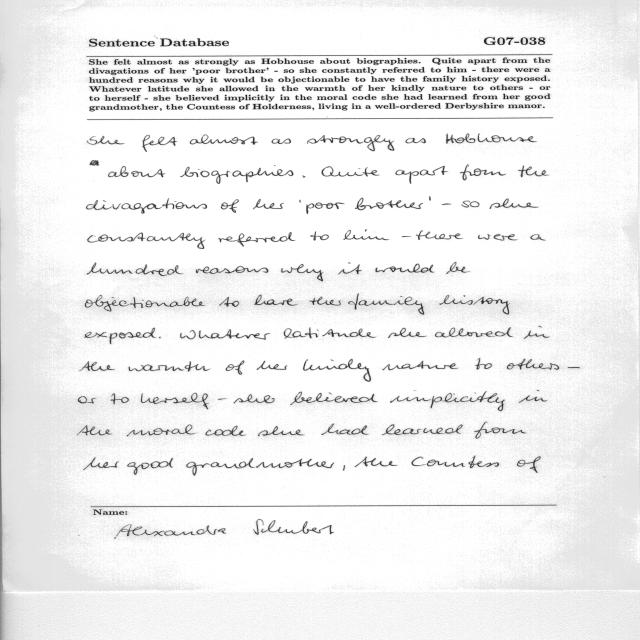word: (187, 458, 335, 476), (390, 390, 505, 411), (180, 165, 293, 184), (88, 232, 205, 249), (87, 198, 207, 214), (85, 295, 205, 311), (348, 293, 424, 315), (303, 359, 371, 382), (439, 295, 510, 315), (307, 135, 394, 151), (87, 263, 183, 276), (218, 232, 295, 247), (290, 392, 378, 405), (85, 328, 156, 344), (284, 327, 375, 339), (141, 393, 209, 409), (412, 456, 499, 468), (180, 329, 271, 340), (396, 166, 448, 184), (446, 134, 537, 144), (382, 425, 463, 436), (474, 422, 526, 439), (129, 362, 211, 372), (355, 198, 423, 210), (127, 425, 195, 437), (127, 458, 173, 475), (435, 328, 513, 338), (190, 134, 258, 145), (460, 165, 506, 181), (281, 264, 323, 281), (383, 361, 458, 370), (108, 166, 165, 177), (142, 135, 177, 152), (376, 263, 435, 273), (322, 167, 380, 177), (196, 266, 268, 274), (321, 423, 369, 435), (507, 359, 559, 370), (490, 199, 539, 209), (255, 295, 298, 306), (416, 230, 463, 240), (258, 426, 305, 436), (306, 202, 345, 214), (344, 230, 390, 240), (84, 457, 119, 470), (355, 457, 397, 467), (517, 456, 541, 473), (206, 426, 246, 436), (388, 328, 427, 338), (77, 425, 112, 436), (234, 394, 275, 403), (519, 390, 547, 403), (80, 361, 115, 371), (518, 166, 549, 177), (88, 136, 125, 145), (524, 326, 549, 339), (253, 199, 284, 209), (338, 263, 362, 275), (446, 262, 470, 274), (309, 297, 341, 306), (226, 360, 245, 375), (478, 234, 517, 241), (257, 361, 287, 370), (221, 199, 239, 213), (220, 297, 240, 307), (111, 393, 129, 404), (310, 231, 329, 241), (475, 359, 492, 370), (78, 396, 97, 404), (462, 201, 480, 208), (531, 234, 546, 241), (406, 138, 426, 143), (272, 139, 291, 144), (90, 160, 99, 166), (442, 203, 451, 205), (218, 398, 226, 400), (568, 367, 580, 368), (343, 465, 345, 471), (429, 196, 431, 201), (402, 236, 411, 237), (303, 176, 306, 178), (299, 200, 301, 203), (159, 337, 161, 339)
